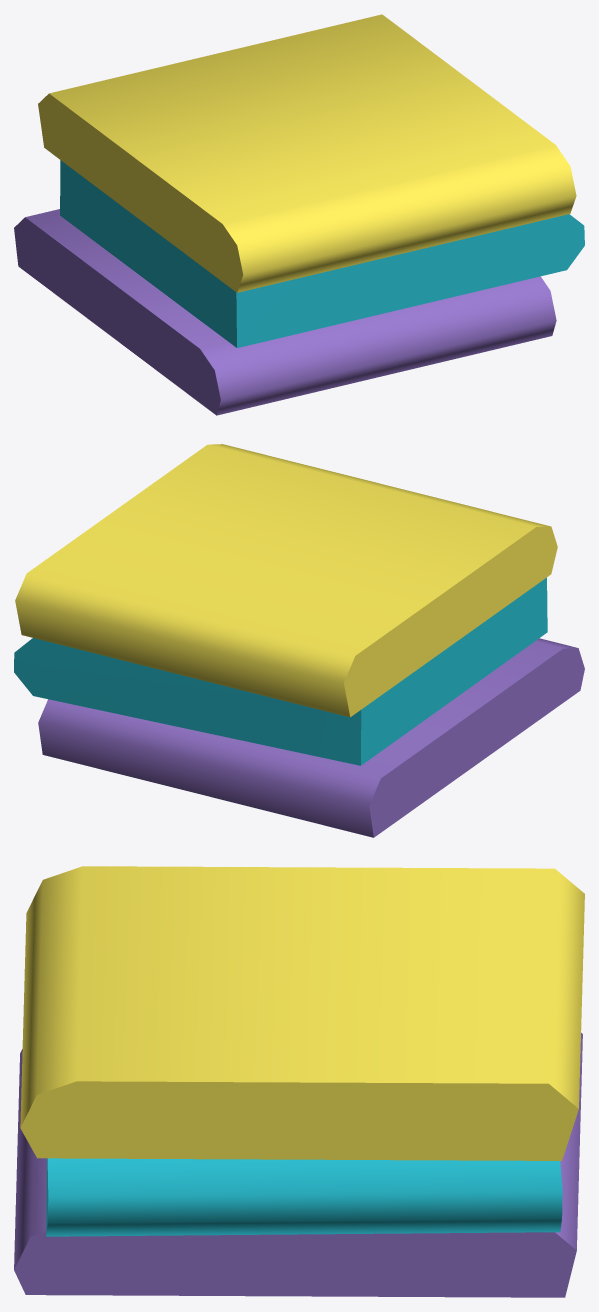
File: shop_011.fbx
3 views of the same model, one above another, from view 1: azimuth 30°, elevation 25°; view 2: azimuth 150°, elevation 25°; view 3: azimuth 270°, elevation 25° (orthographic). The views are drawn at different scales.
Visible parts, largest first — view 1: shop_011; view 2: shop_011; view 3: shop_011.
Boxes of the visible parts, x1=… form: shop_011: x1=14, y1=14, x2=584, y2=415; shop_011: x1=14, y1=444, x2=584, y2=837; shop_011: x1=14, y1=866, x2=584, y2=1297.
Size of the model in its own units: 41.04 by 40.69 by 17.96.
